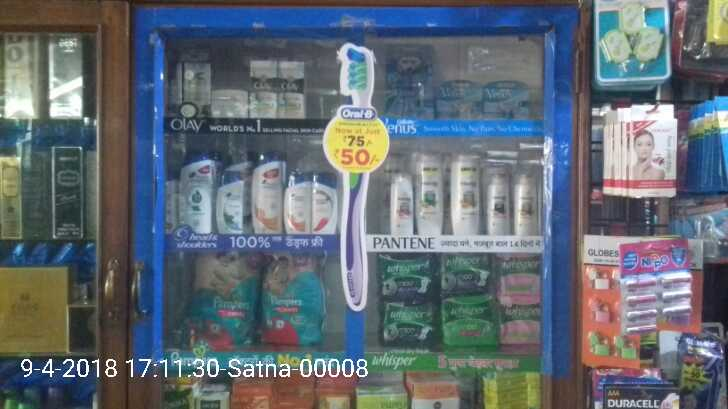venus: (386, 42, 431, 113), (482, 81, 530, 116), (436, 79, 481, 116)
